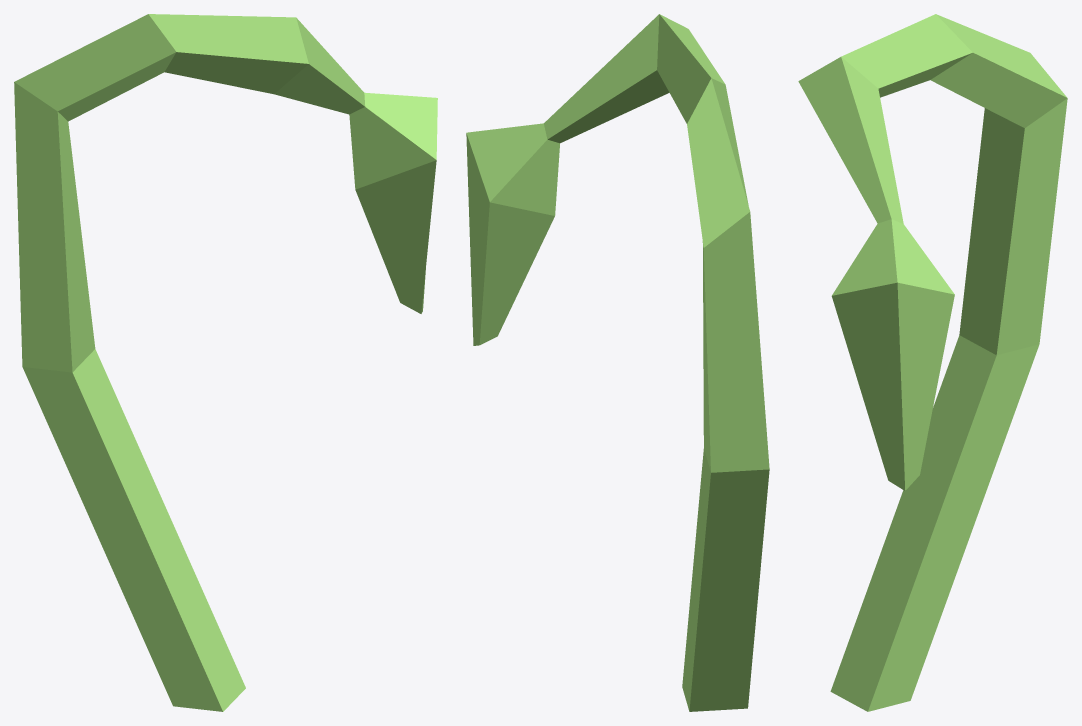
Rendered from tomato_1.glb.
3 renders of one model, left to right at view 1: azimuth 30°, elevation 25°; view 2: azimuth 150°, elevation 25°; view 3: azimuth 270°, elevation 25°, orthographic. The views are drawn at different scales.
Visible parts, largest first — view 1: Tomato_1; view 2: Tomato_1; view 3: Tomato_1.
Boxes of the visible parts, x1,y1,x2,y2 form: Tomato_1: [14, 14, 437, 711]; Tomato_1: [466, 14, 769, 711]; Tomato_1: [798, 14, 1067, 711].
Size of the model in its own units: 0.1011 by 0.1793 by 0.0647.
